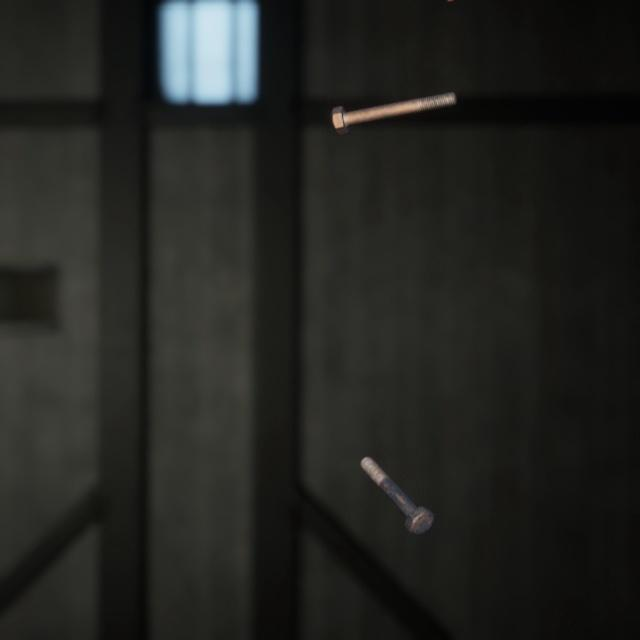bolt: (355, 432, 438, 518), (327, 76, 461, 128)
